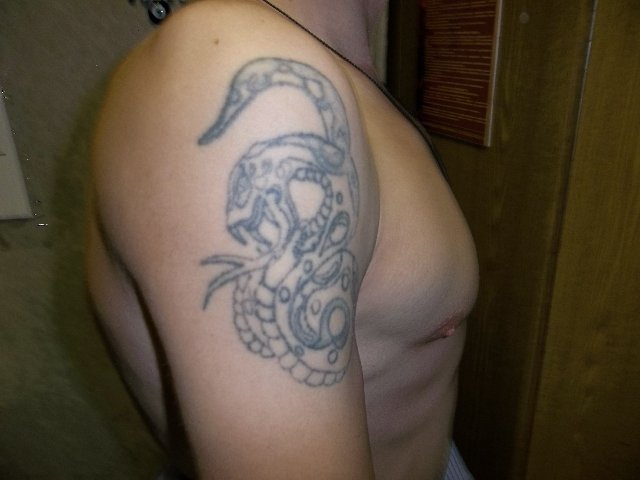tatu7_zmeya: (196, 40, 375, 392)
